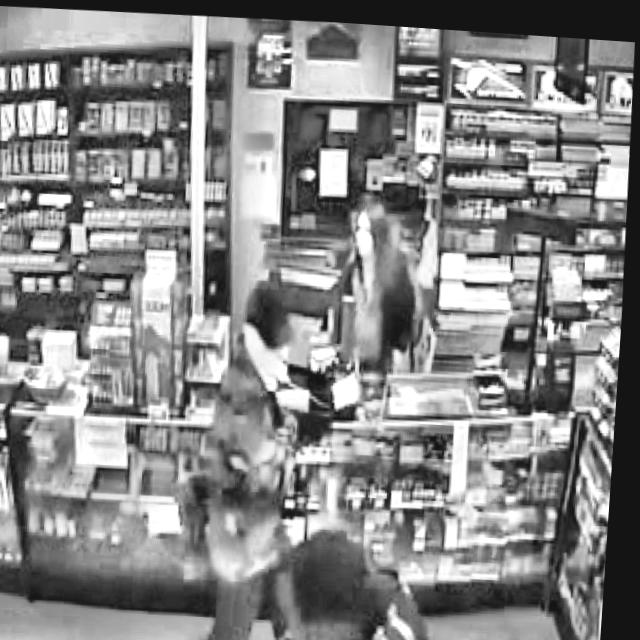robbery: (162, 270, 375, 640)
